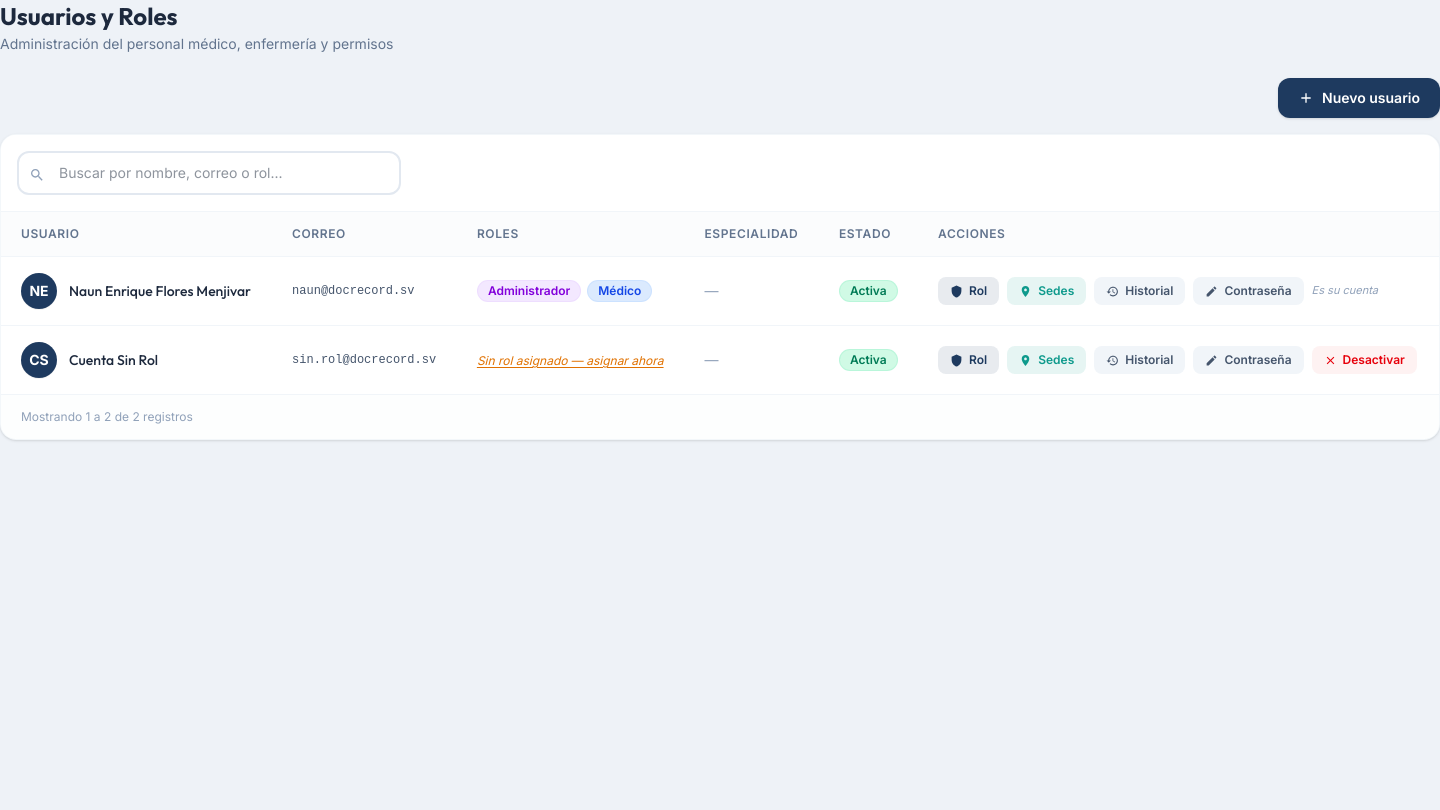
Test case: dar de alta personal › con el correo sin enviar, no dice que se revise el correo y ofrece asignar contraseña
Check: the text "Naun Enrique Flores Menjivar" is shown, box [69, 281, 251, 301]
Click the button "Nuevo usuario" at coordinates (1359, 98), box [1278, 78, 1439, 118]
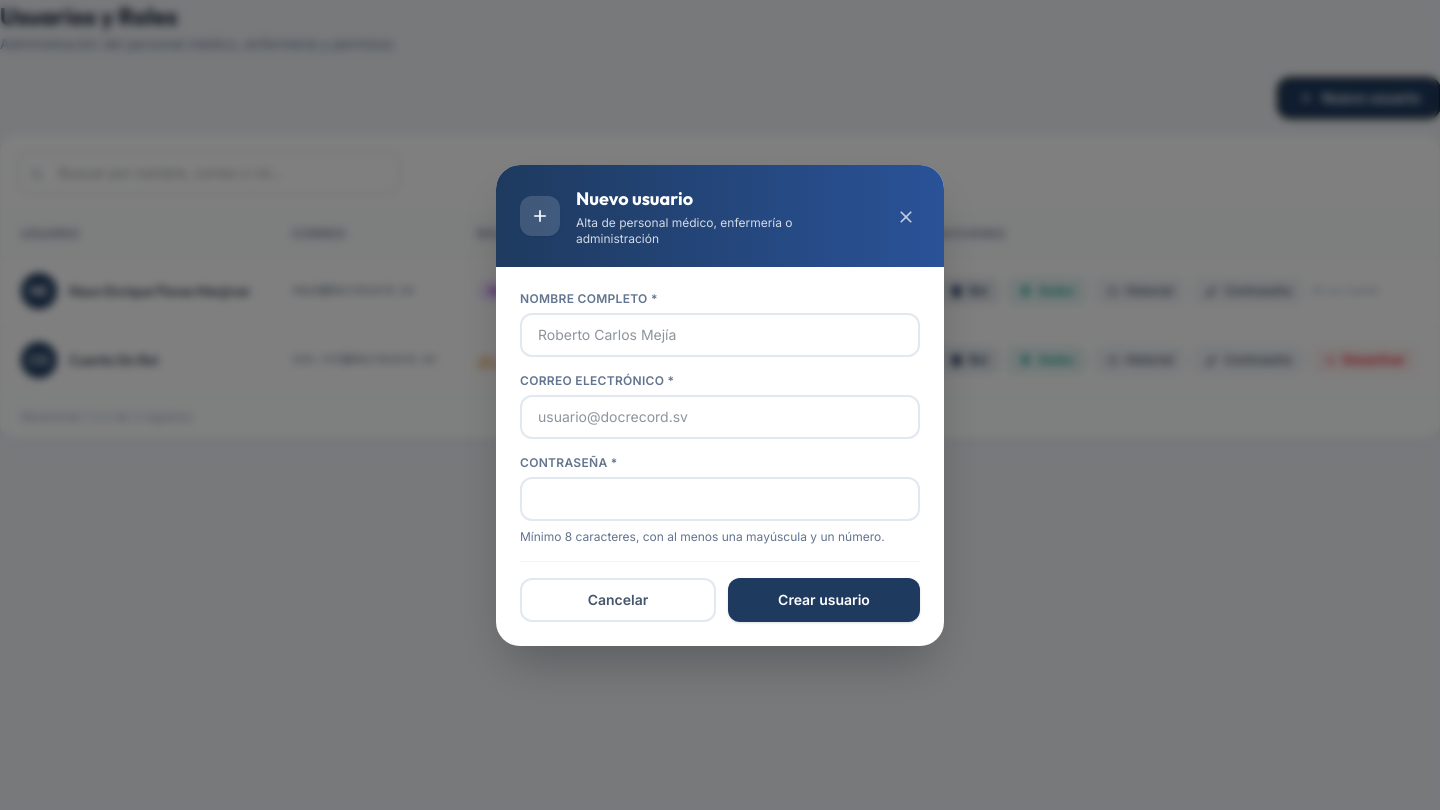
Type "Sin Enlace" into the field labelled "Nombre completo *" at coordinates (720, 334), box [520, 312, 920, 356]
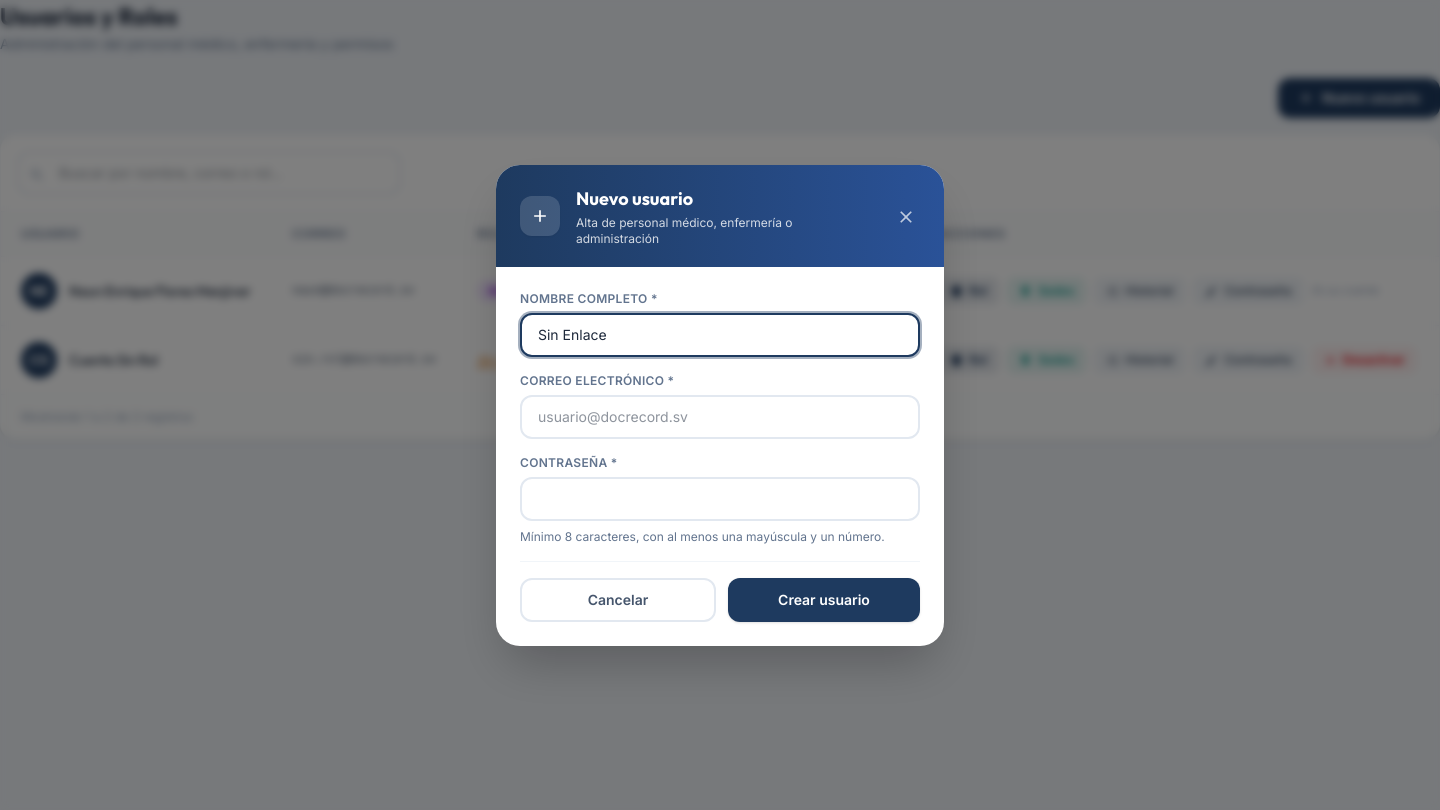
Type "sinenlace@docrecord.sv" into the field labelled "Correo electrónico *" at coordinates (720, 416), box [520, 394, 920, 438]
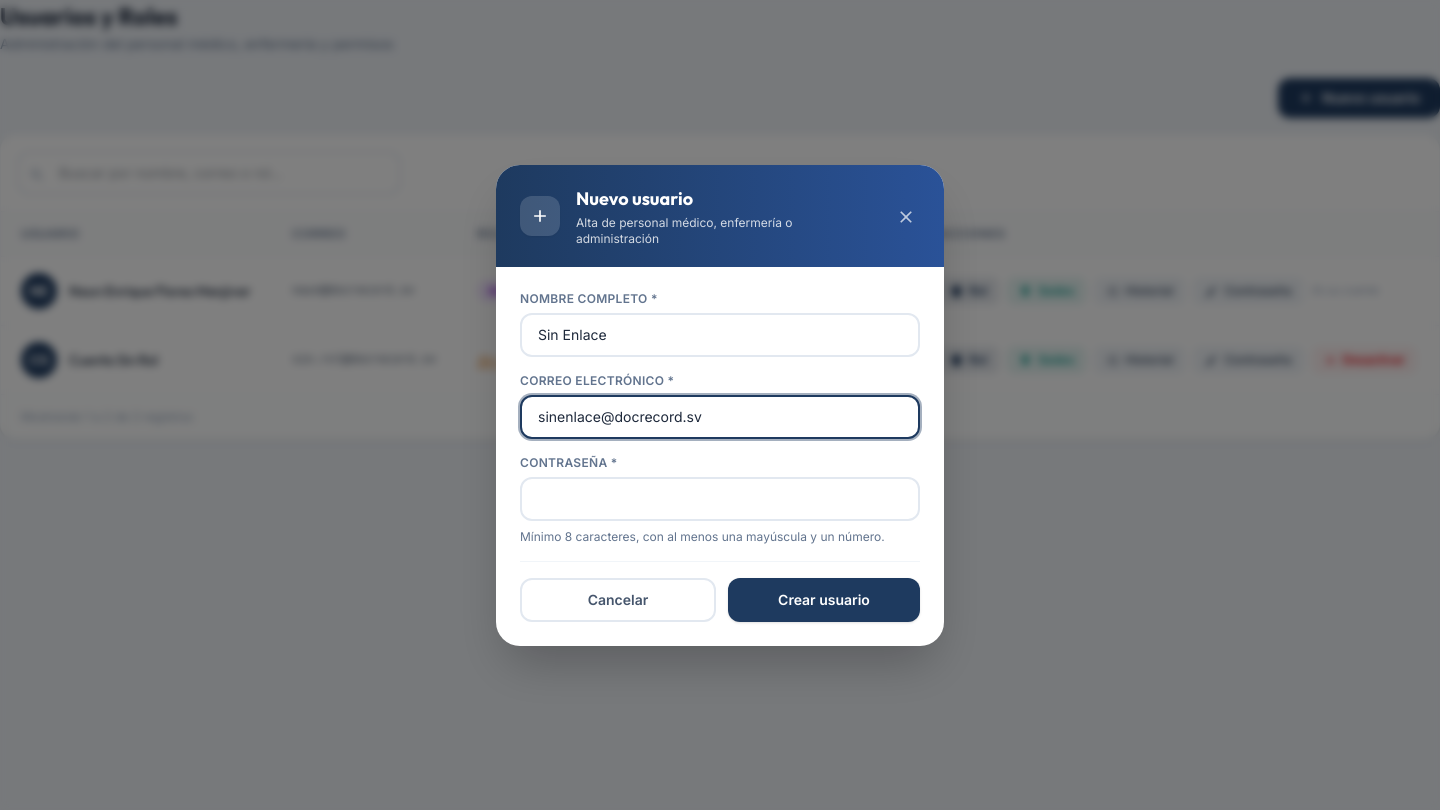
Type "ClaveSegura2026!" into the password field labelled "Contraseña *" at coordinates (720, 498), box [520, 476, 920, 520]
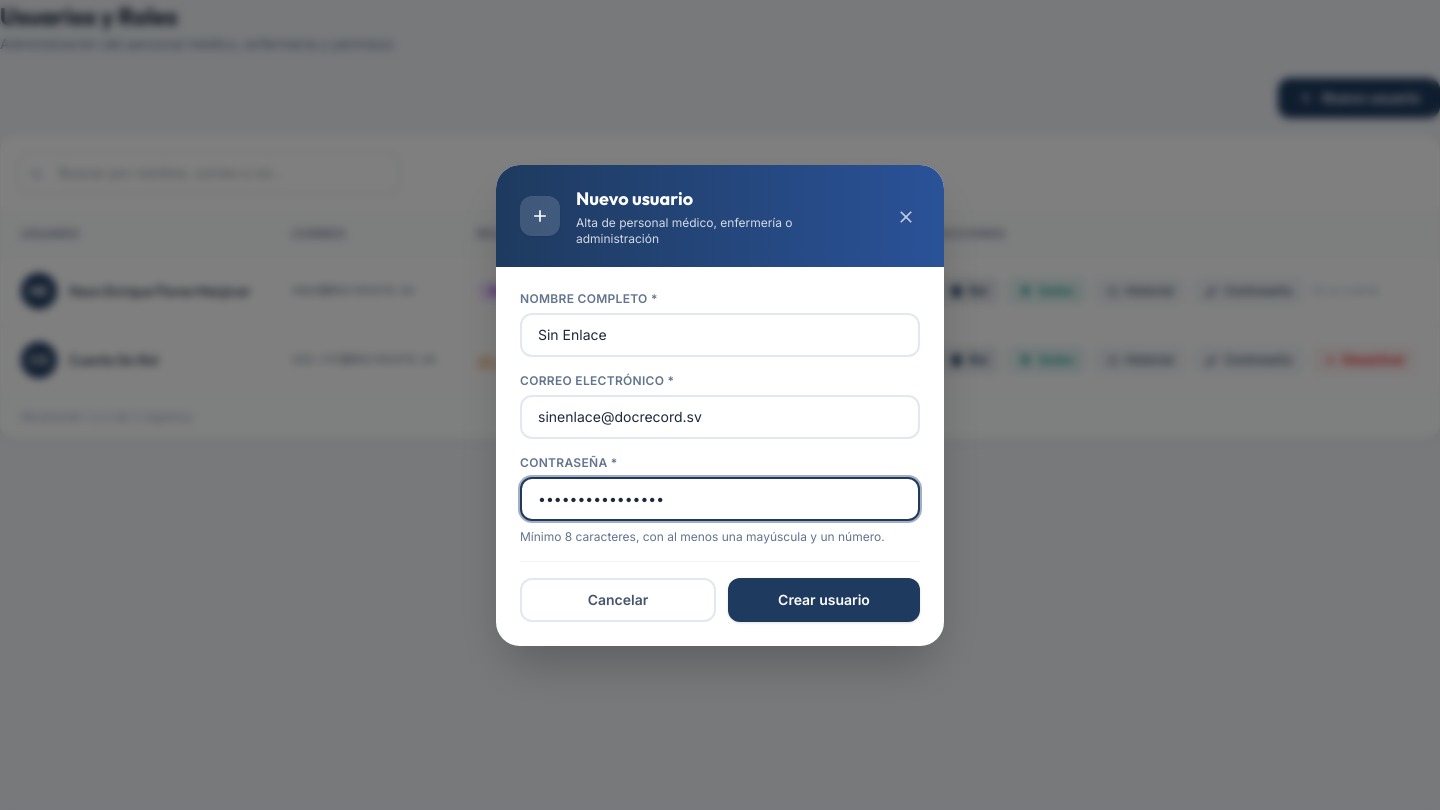
Click the button "Crear usuario" at coordinates (824, 600), box [728, 578, 920, 622]
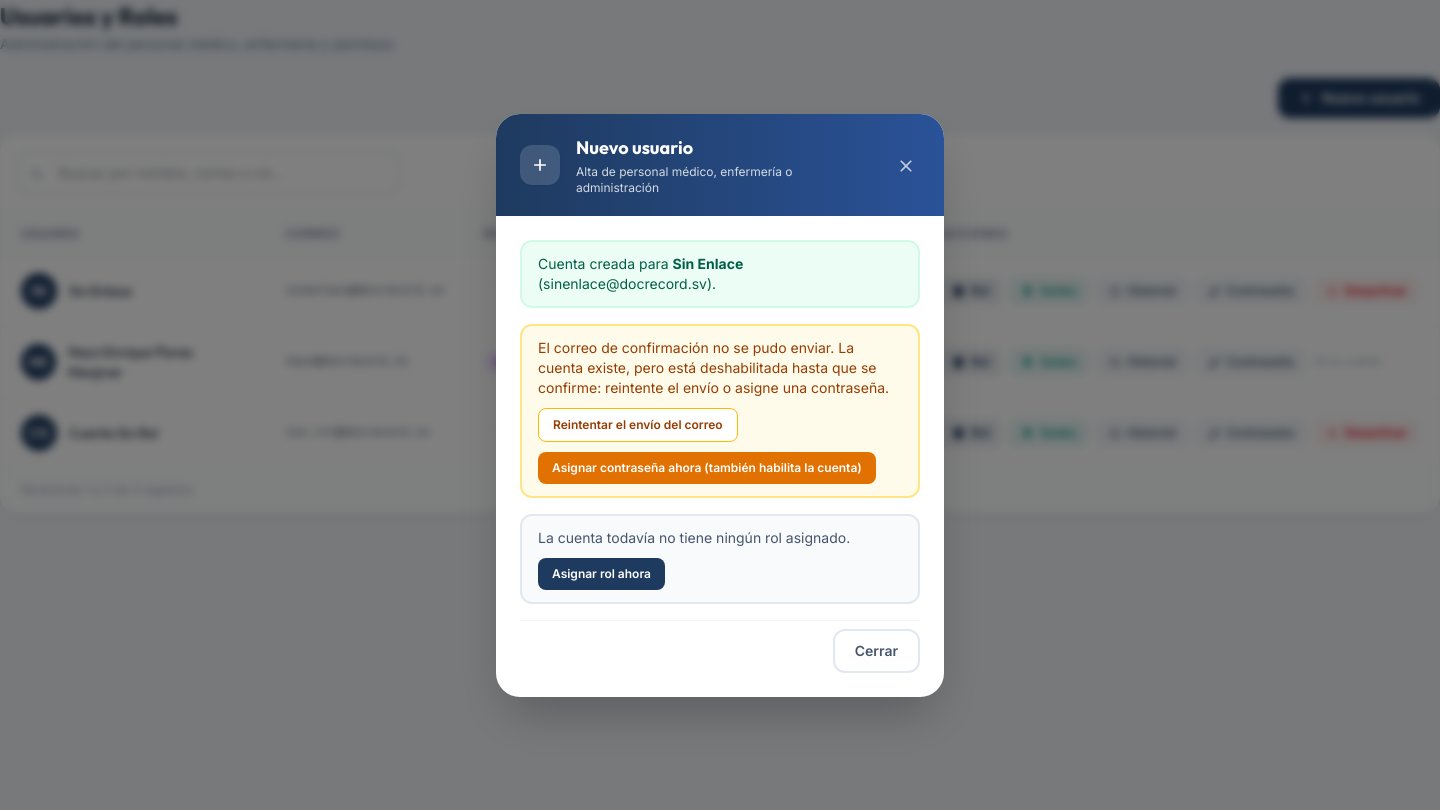
Check: the text "El correo de confirmación no se pudo enviar" is shown, box [538, 338, 889, 396]
Check: the button "Asignar contraseña ahora (también habilita la cuenta)" is shown, box [538, 452, 876, 484]
